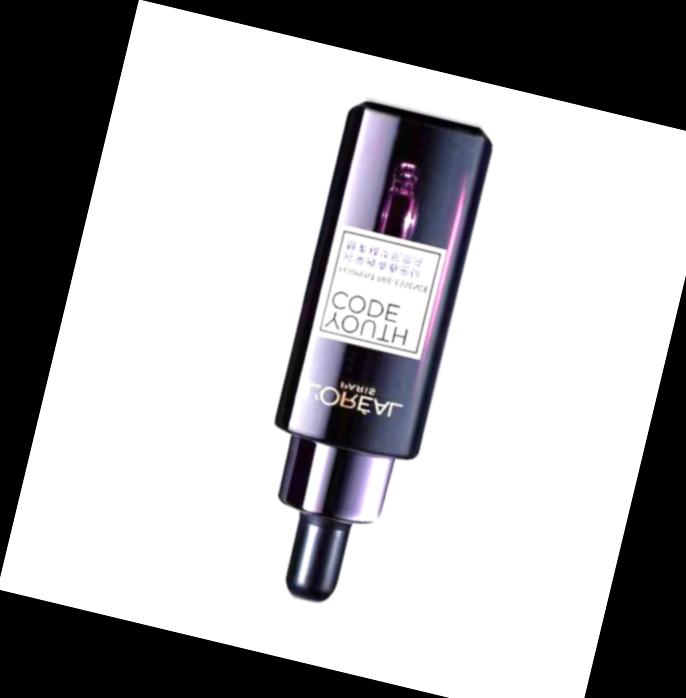cosmetic: (236, 98, 493, 617)
